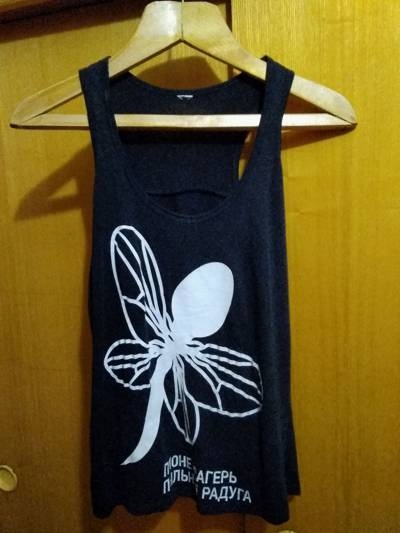Dress: (51, 25, 343, 530)
